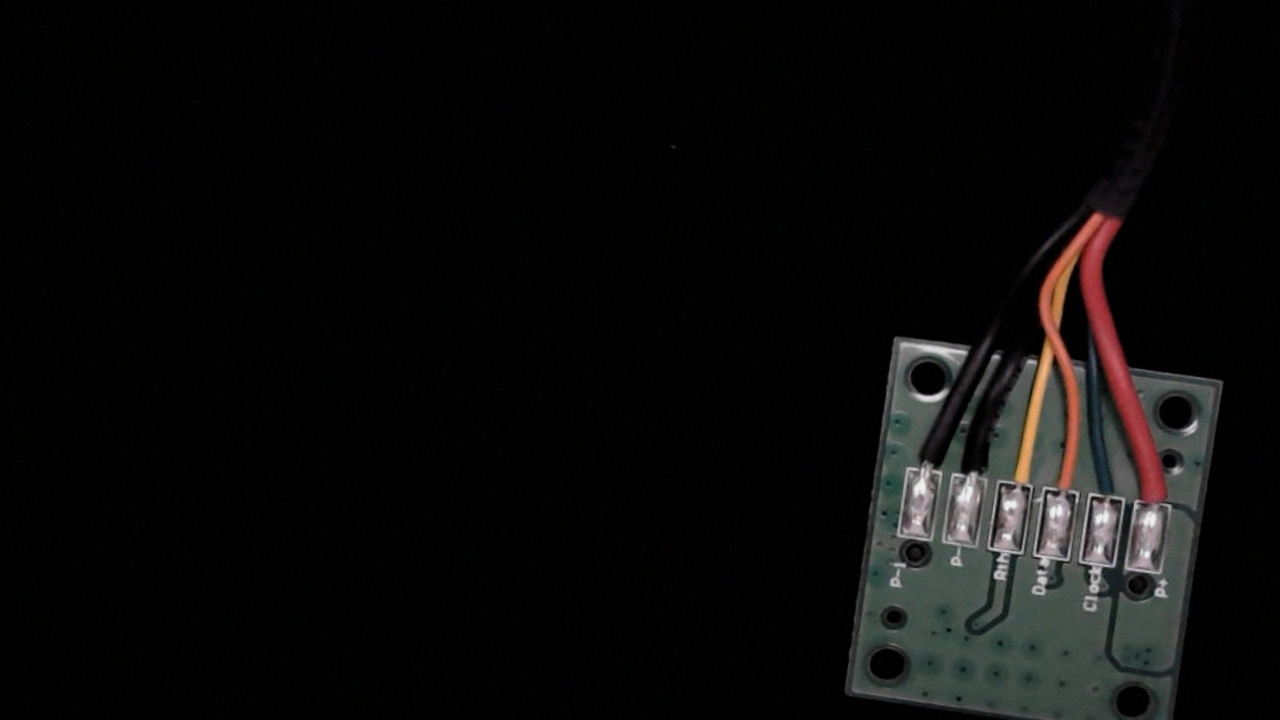Black: (951, 426, 996, 495)
Black1: (905, 420, 952, 488)
Green: (1084, 452, 1130, 515)
Orange: (1044, 441, 1086, 509)
Red: (1132, 451, 1183, 519)
Yellow: (998, 433, 1042, 503)
